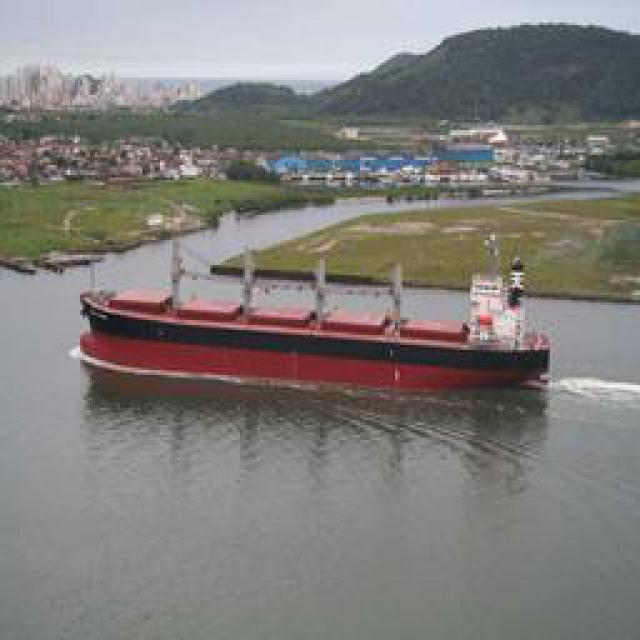Ship: (84, 243, 559, 401)
